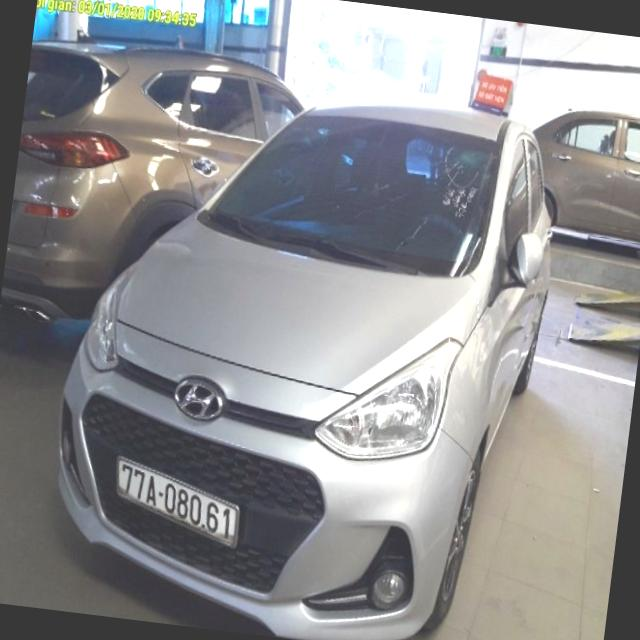Cabossage: (484, 293, 535, 448)
Fissure: (333, 175, 435, 276), (435, 134, 495, 206)
